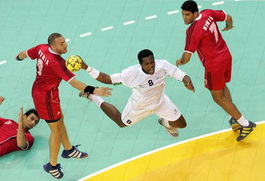fall: (0, 87, 44, 172)
